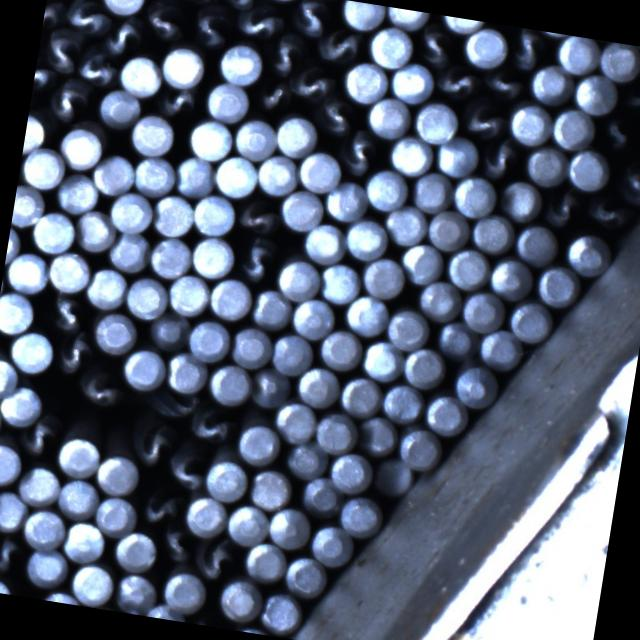tool: (562, 230, 613, 278), (216, 576, 264, 626), (413, 98, 462, 146), (505, 100, 554, 148), (91, 308, 140, 356), (342, 58, 392, 105), (272, 398, 320, 446), (69, 560, 117, 608), (486, 254, 534, 302), (30, 208, 78, 256), (120, 344, 168, 392), (462, 24, 512, 70), (224, 500, 272, 547), (507, 296, 554, 344), (117, 51, 165, 98), (565, 146, 612, 194), (5, 248, 52, 296), (206, 275, 254, 322), (278, 187, 326, 234), (317, 326, 365, 373), (313, 408, 360, 456), (295, 363, 343, 410), (94, 450, 142, 497), (367, 24, 415, 71), (56, 433, 104, 480), (61, 516, 108, 564), (398, 240, 446, 287), (128, 112, 176, 159), (203, 457, 251, 504), (548, 104, 596, 151), (206, 360, 254, 407), (22, 506, 70, 553), (274, 256, 322, 303), (160, 570, 209, 616), (343, 293, 392, 339), (187, 117, 236, 163), (266, 504, 313, 551), (185, 316, 232, 363), (452, 174, 499, 221), (362, 165, 409, 212), (400, 346, 448, 392), (190, 192, 238, 238), (386, 132, 434, 178), (211, 152, 259, 198), (182, 493, 230, 539), (290, 294, 338, 340), (190, 234, 238, 280), (236, 422, 284, 468), (124, 272, 170, 320), (218, 42, 266, 88), (384, 306, 432, 352), (242, 540, 290, 586), (113, 526, 161, 572), (364, 94, 412, 140), (573, 70, 621, 116), (246, 466, 294, 512), (7, 328, 55, 374), (108, 189, 156, 235), (160, 44, 208, 90), (418, 278, 466, 324), (59, 123, 107, 169), (514, 222, 562, 268), (24, 544, 72, 590), (110, 570, 158, 616), (92, 150, 138, 197), (19, 146, 66, 192), (230, 324, 276, 371), (47, 249, 94, 295), (461, 288, 508, 334), (269, 329, 315, 376), (296, 148, 343, 194), (232, 115, 278, 162), (329, 448, 376, 494), (302, 220, 349, 266), (55, 172, 102, 218), (163, 350, 210, 396), (497, 178, 543, 225), (380, 381, 428, 426), (259, 590, 304, 638), (316, 260, 362, 306), (256, 152, 302, 198), (150, 192, 196, 238), (166, 271, 212, 317), (343, 216, 389, 262), (310, 522, 356, 568), (446, 246, 492, 292), (528, 60, 574, 106), (425, 206, 471, 252), (276, 114, 322, 160), (323, 178, 369, 224), (148, 234, 194, 280), (0, 383, 46, 429), (106, 228, 152, 274), (381, 202, 427, 248), (477, 326, 524, 371), (387, 61, 434, 106), (454, 362, 499, 409), (17, 463, 64, 508), (468, 211, 515, 256), (203, 78, 250, 123), (536, 262, 581, 308), (424, 391, 470, 436), (284, 552, 329, 598), (132, 154, 178, 199), (361, 255, 406, 301), (338, 494, 383, 540), (338, 374, 384, 419), (96, 86, 142, 131), (300, 475, 345, 521), (433, 134, 480, 178), (524, 144, 571, 188), (553, 34, 601, 77), (355, 413, 400, 458), (398, 425, 442, 471), (86, 264, 130, 310), (286, 438, 332, 482), (173, 152, 217, 198), (250, 286, 294, 332), (411, 172, 455, 218), (436, 318, 482, 362), (246, 366, 292, 410), (56, 476, 101, 520), (362, 338, 406, 383), (75, 209, 118, 255), (148, 310, 192, 353), (596, 40, 640, 82), (94, 492, 138, 534), (374, 454, 416, 498), (0, 288, 36, 335), (12, 182, 46, 228), (340, 0, 386, 32), (0, 488, 30, 535), (0, 440, 25, 488), (22, 113, 48, 155), (384, 7, 430, 30), (438, 15, 485, 35), (0, 355, 19, 399), (101, 0, 149, 17), (40, 588, 84, 606), (5, 224, 23, 266), (0, 573, 15, 595)
tool_b: (46, 74, 94, 126), (17, 412, 64, 464), (311, 24, 364, 70), (191, 534, 241, 582), (233, 235, 279, 286), (76, 366, 126, 412), (131, 419, 176, 469), (412, 23, 458, 70), (338, 128, 381, 178), (102, 12, 146, 60), (142, 0, 188, 45), (74, 46, 121, 90), (190, 2, 233, 50), (166, 448, 210, 494), (478, 136, 522, 182), (288, 64, 335, 107), (41, 29, 84, 76), (432, 61, 480, 103), (235, 3, 284, 44), (58, 0, 108, 40), (314, 93, 358, 138), (583, 192, 630, 234), (54, 330, 96, 377), (507, 27, 549, 74), (266, 33, 308, 80), (462, 100, 508, 142), (46, 290, 88, 336), (539, 187, 583, 230), (188, 407, 234, 448), (478, 64, 526, 103), (138, 487, 182, 529), (156, 524, 198, 568), (236, 198, 280, 238), (289, 0, 333, 39), (158, 83, 200, 121), (157, 388, 202, 422), (255, 78, 293, 116), (598, 114, 635, 152), (613, 161, 640, 209), (0, 534, 23, 575), (619, 82, 640, 121), (32, 61, 55, 95), (41, 0, 64, 33), (216, 0, 257, 11)
